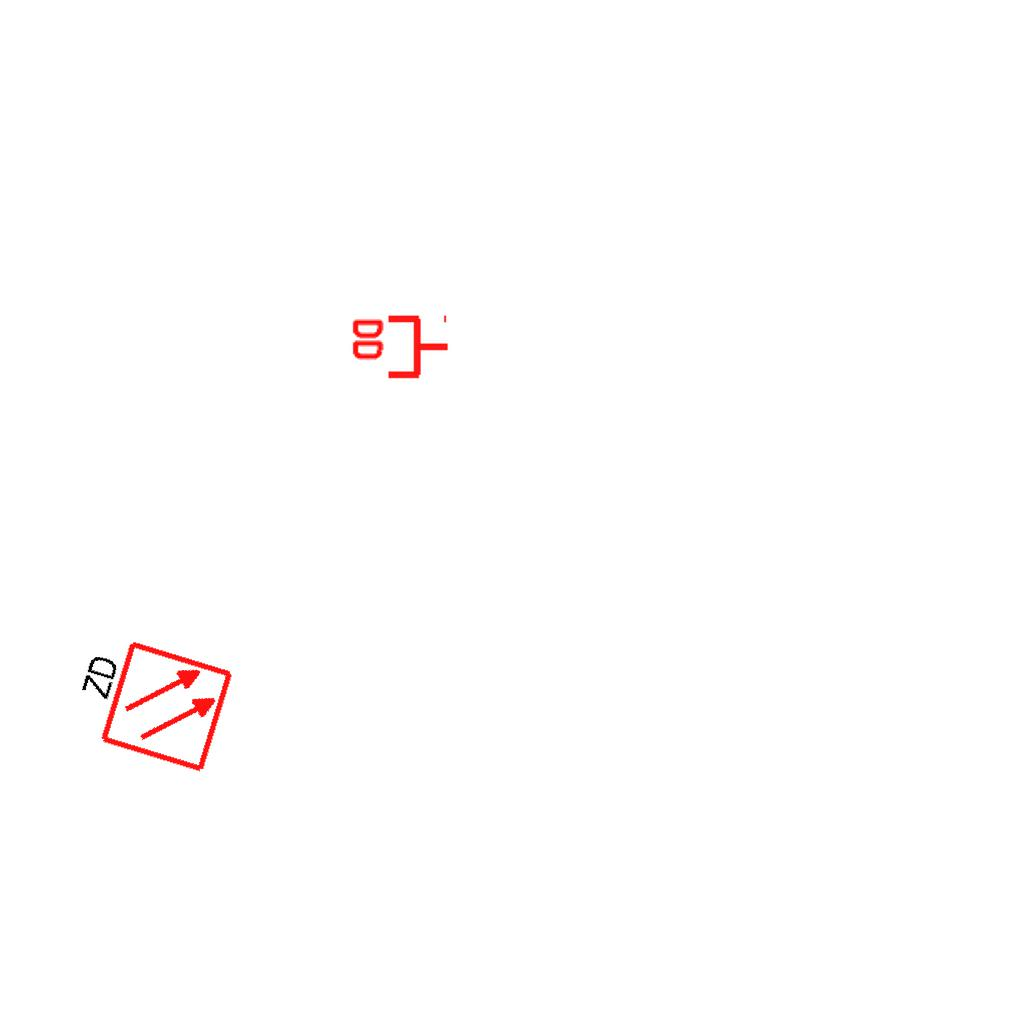Datenanschluss_zweifach: (348, 314, 451, 383)
ZD_Melder_in_Zwischendecke_mit_Revisionsoeffnung_mind_40_x_40_cm: (60, 626, 236, 779)
